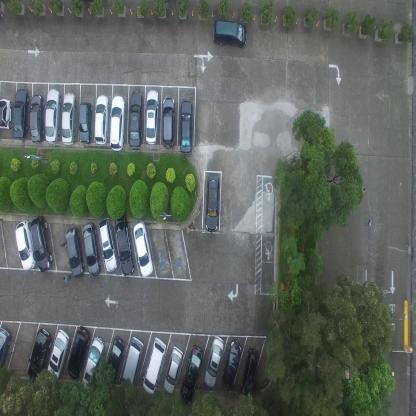car: (178, 344, 204, 404), (26, 327, 52, 383), (142, 336, 167, 394), (114, 213, 135, 278), (30, 214, 53, 272), (67, 324, 90, 381), (121, 335, 144, 391), (132, 220, 154, 278), (46, 328, 69, 383), (82, 335, 105, 388), (203, 334, 225, 389), (97, 217, 118, 273), (103, 335, 125, 387), (14, 219, 36, 270), (221, 338, 242, 389), (162, 346, 184, 394), (82, 221, 101, 276), (212, 19, 248, 48), (65, 226, 85, 278), (240, 346, 259, 399), (110, 93, 126, 152), (44, 87, 60, 145), (205, 172, 220, 233), (61, 90, 77, 147), (12, 88, 29, 141), (144, 88, 160, 144), (128, 88, 142, 150), (179, 97, 193, 154), (94, 93, 109, 145), (29, 92, 44, 144), (161, 97, 176, 148), (78, 100, 92, 145), (0, 325, 12, 372), (0, 98, 13, 131)
